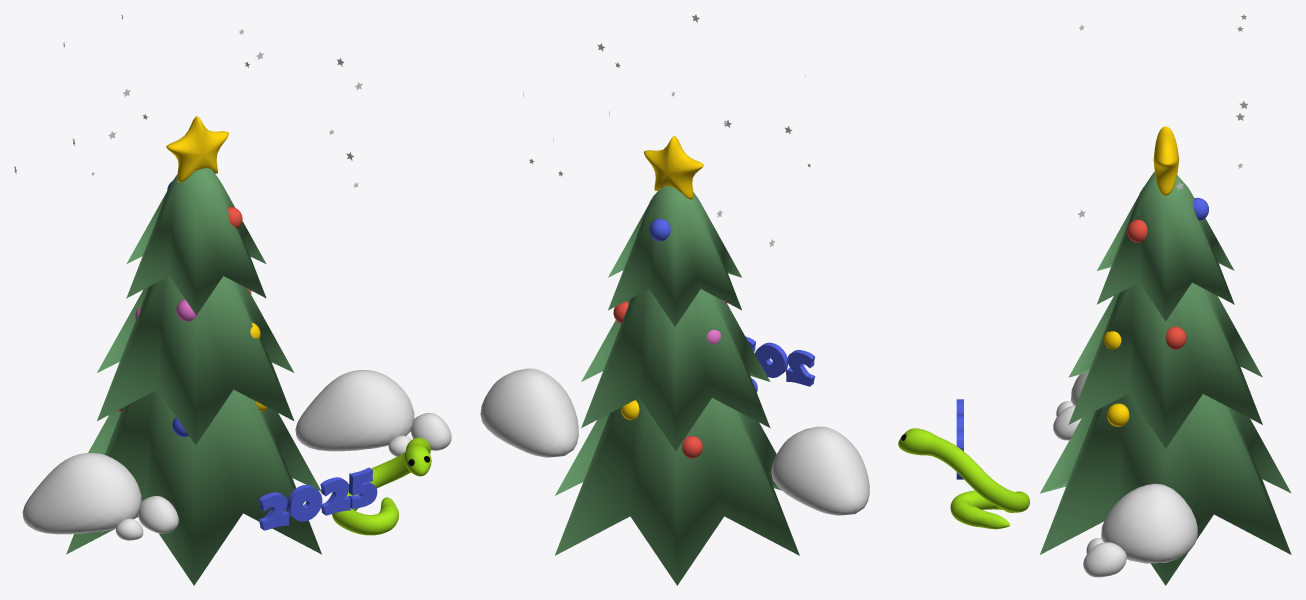
3 renders of one model, left to right at view 1: azimuth 30°, elevation 25°; view 2: azimuth 150°, elevation 25°; view 3: azimuth 270°, elevation 25°, orthographic. The views are drawn at different scales.
Visible parts, largest first — view 1: Cylinder.002, Cylinder.001, Cylinder.003, Sphere.018, Sphere.001, Text, Zmeya, Zvezda; view 2: Cylinder.002, Cylinder.001, Cylinder.003, Sphere.018, Sphere.001, Zvezda, Text; view 3: Cylinder.002, Cylinder.001, Cylinder.003, Sphere.001, Zmeya, Zvezda, Sphere.018.
Part boxes in pixels (<box>): Cylinder.002: <box>66,389,321,585</box>; Cylinder.001: <box>97,276,294,445</box>; Cylinder.003: <box>126,168,266,315</box>; Sphere.018: <box>22,453,178,540</box>; Sphere.001: <box>295,370,451,456</box>; Text: <box>259,467,377,530</box>; Zmeya: <box>332,437,431,535</box>; Zvezda: <box>166,116,228,182</box>; Cylinder.002: <box>555,398,799,585</box>; Cylinder.001: <box>581,289,770,451</box>; Cylinder.003: <box>608,185,741,326</box>; Sphere.018: <box>771,426,869,515</box>; Sphere.001: <box>480,368,578,457</box>; Zvezda: <box>644,136,703,199</box>; Text: <box>745,336,815,386</box>; Cylinder.002: <box>1040,394,1291,585</box>; Cylinder.001: <box>1068,282,1262,448</box>; Cylinder.003: <box>1097,172,1234,321</box>; Sphere.001: <box>1083,483,1197,577</box>; Zmeya: <box>898,428,1029,529</box>; Zvezda: <box>1153,126,1179,195</box>; Sphere.018: <box>1053,372,1088,440</box>.
Bounding box in the file's own units: 1.96 × 2.31 × 1.68.
